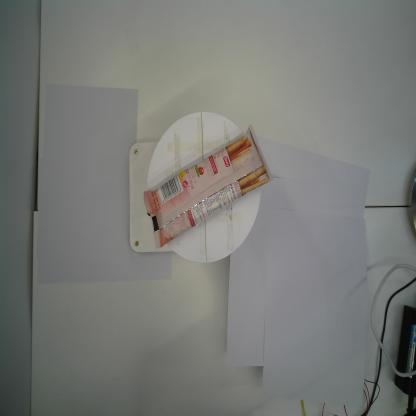Dessert: (141, 123, 276, 251)
